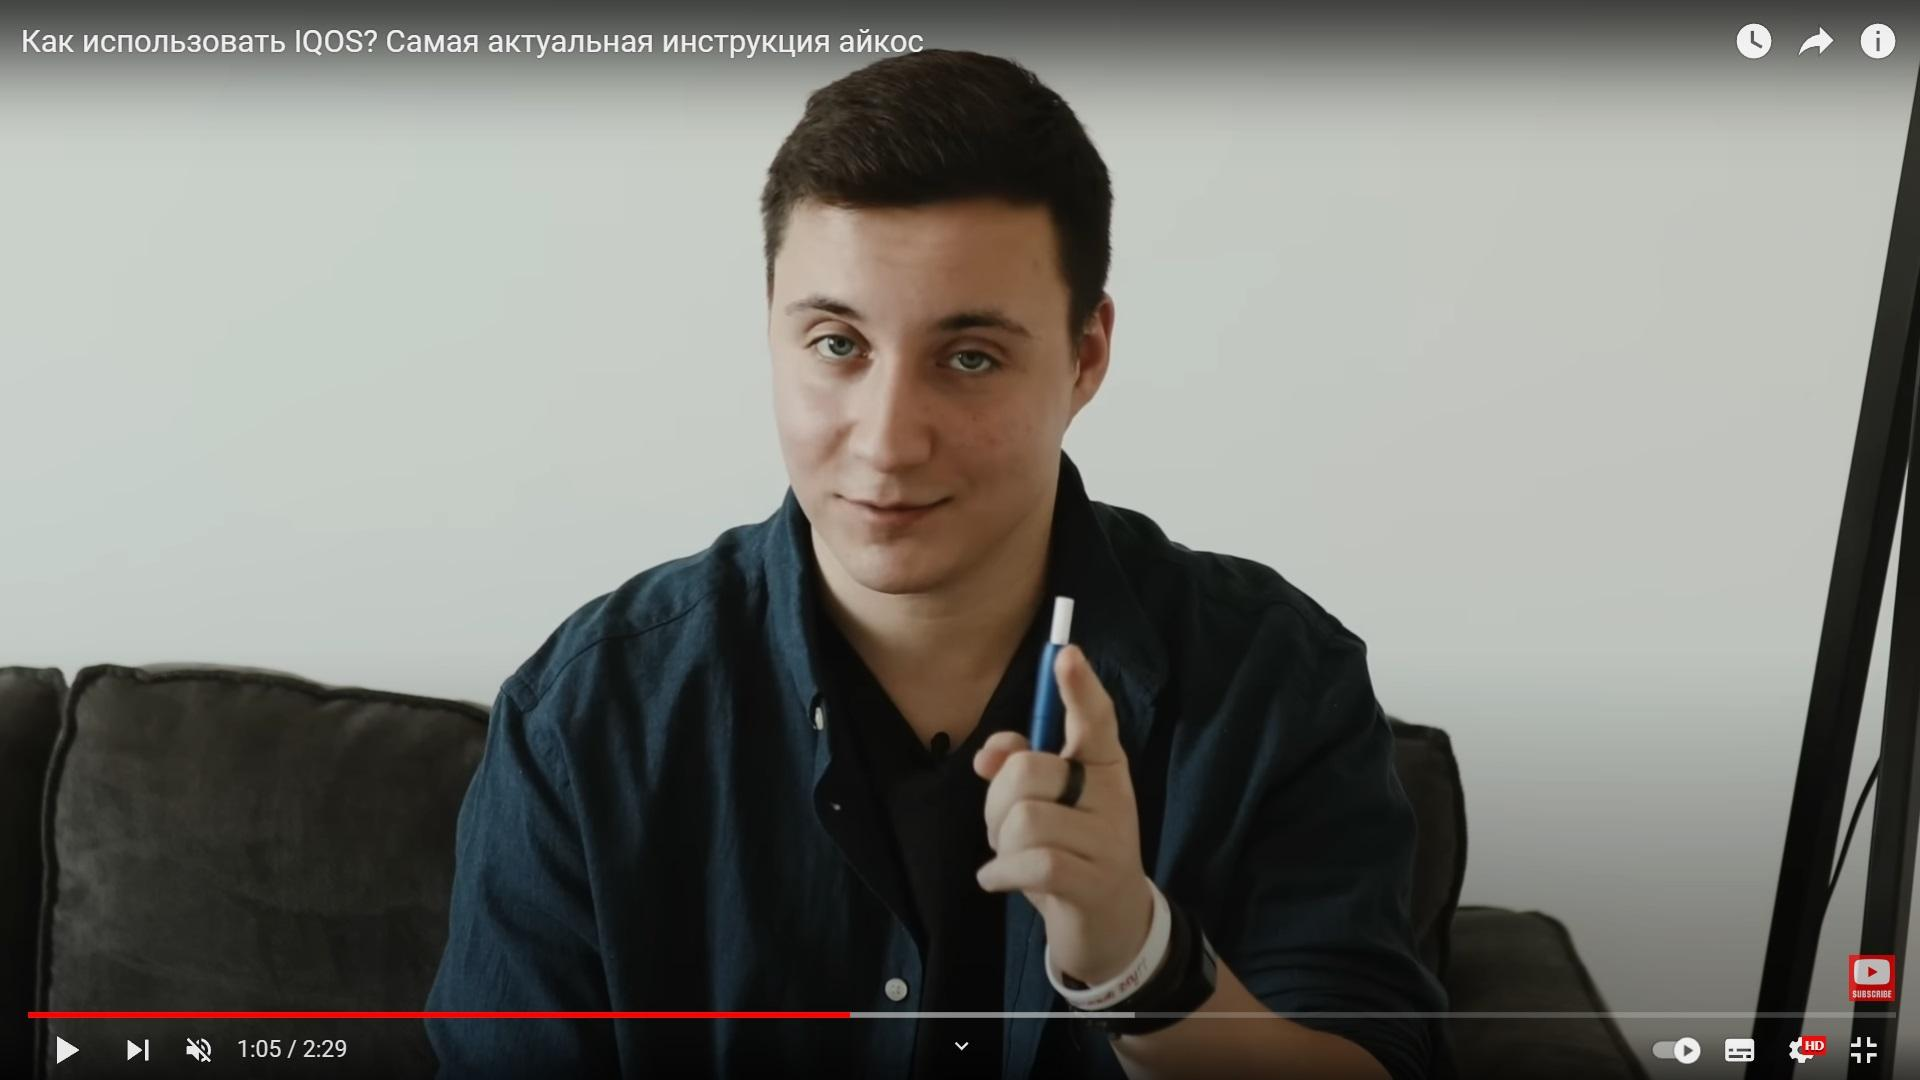iqos: (1030, 596, 1077, 754)
